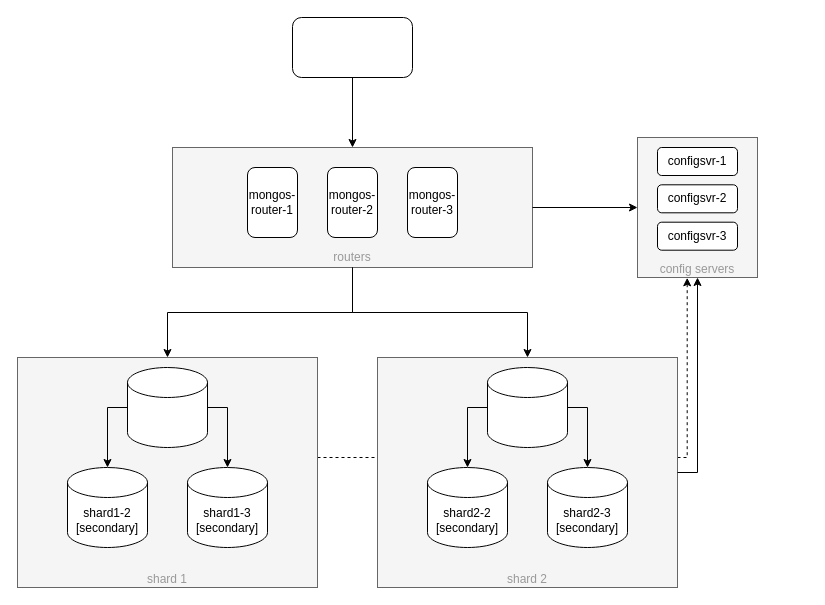
This 825x605 diagram has some shape labels left out. Each missing label, with the box of its shape:
pymongo-api: (292, 16, 412, 78)
shard1-1 [primary]: (126, 366, 208, 448)
shard2-1 [primary]: (486, 366, 568, 448)
